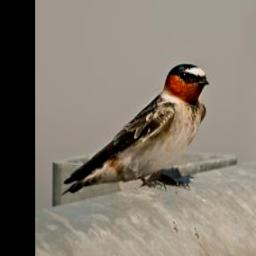Swallow: (59, 60, 211, 194)
